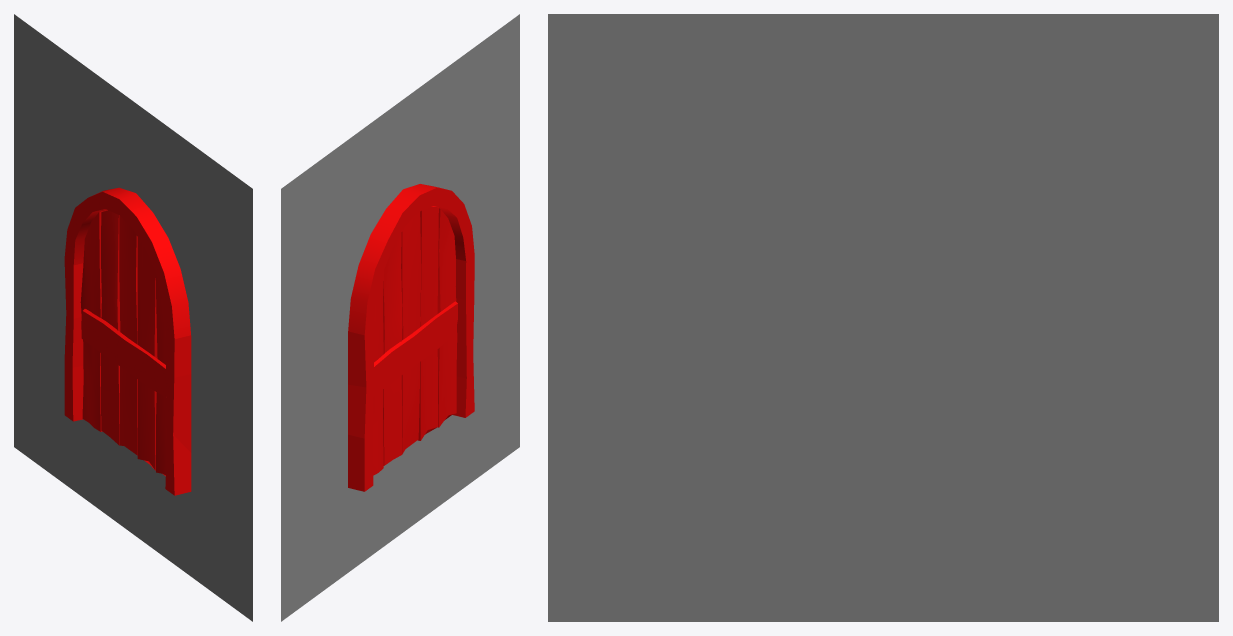
File: Background_Door.FBX
The picture shows the model from 3 angles, left to right: view 1: azimuth 30°, elevation 25°; view 2: azimuth 150°, elevation 25°; view 3: azimuth 270°, elevation 25°; orthographic projection. The views are drawn at different scales.
Parts seen in each view (by area): view 1: Background_Door; view 2: Background_Door; view 3: Background_Door.
Part boxes in pixels (box(x1,y1,x2,y2)): Background_Door: box(14, 14, 252, 621); Background_Door: box(281, 14, 519, 621); Background_Door: box(548, 14, 1218, 621).
Bounding box in the file's own units: 20 × 500 × 500.
